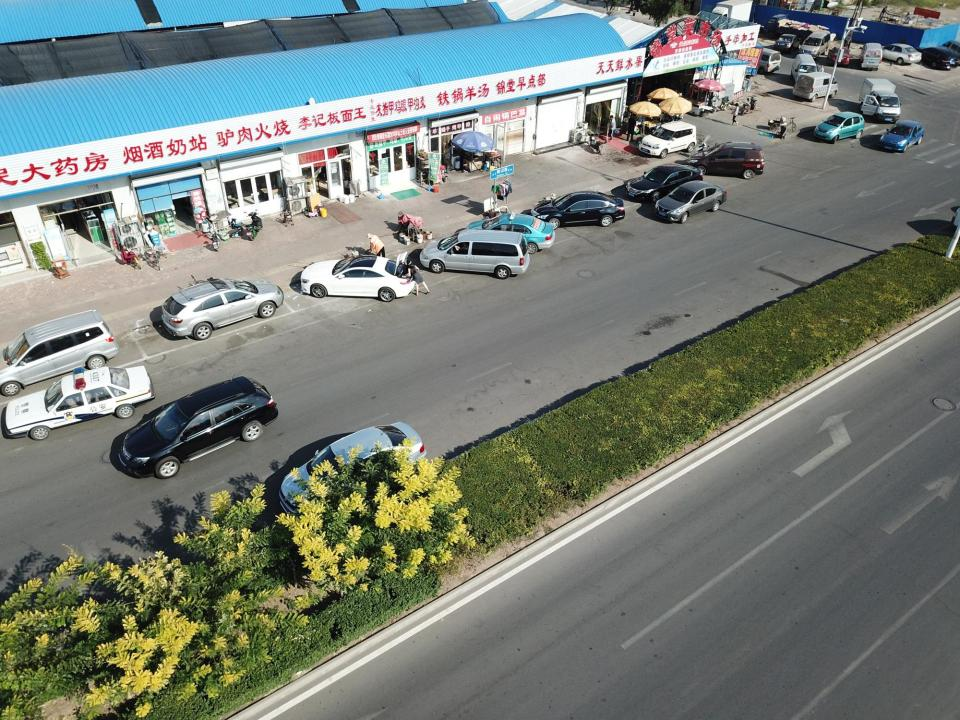car: (118, 374, 279, 480), (277, 420, 429, 522), (4, 363, 155, 441), (160, 277, 284, 341), (300, 255, 418, 302), (464, 211, 556, 255), (530, 190, 626, 231), (652, 180, 728, 224), (625, 162, 703, 203), (687, 140, 765, 180), (638, 120, 698, 159), (813, 111, 865, 143), (878, 118, 924, 152), (910, 46, 960, 70), (874, 43, 922, 64), (773, 32, 801, 53), (827, 46, 851, 66)
truck: (763, 13, 829, 46), (710, 0, 754, 31)
van: (0, 308, 120, 397), (419, 229, 530, 280), (858, 78, 903, 124), (792, 71, 838, 103), (743, 46, 782, 74), (799, 30, 831, 61), (790, 54, 819, 88), (858, 42, 884, 71), (939, 40, 960, 62)
